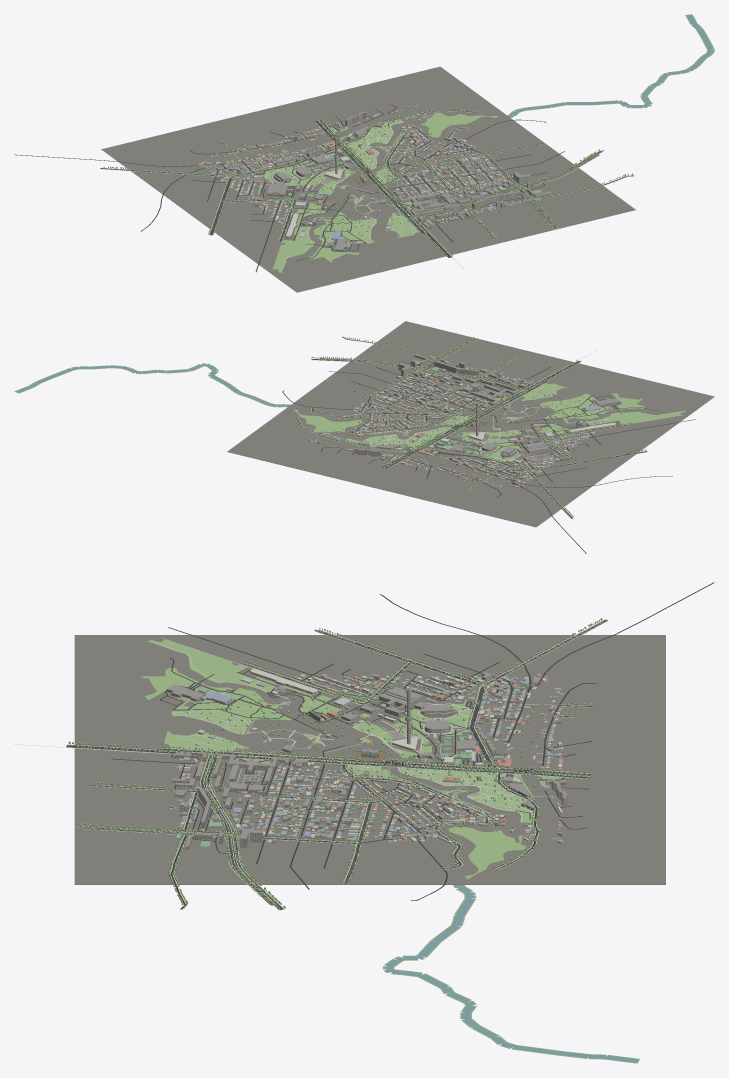
Rendered from tsh-park-current.glb.
3 renders of one model, top to bottom at view 1: azimuth 30°, elevation 25°; view 2: azimuth 150°, elevation 25°; view 3: azimuth 270°, elevation 25°, orthographic. The views are drawn at different scales.
Bounding box in the file's own units: 3853 × 212 × 2371.
51 materials, 13 textured.
